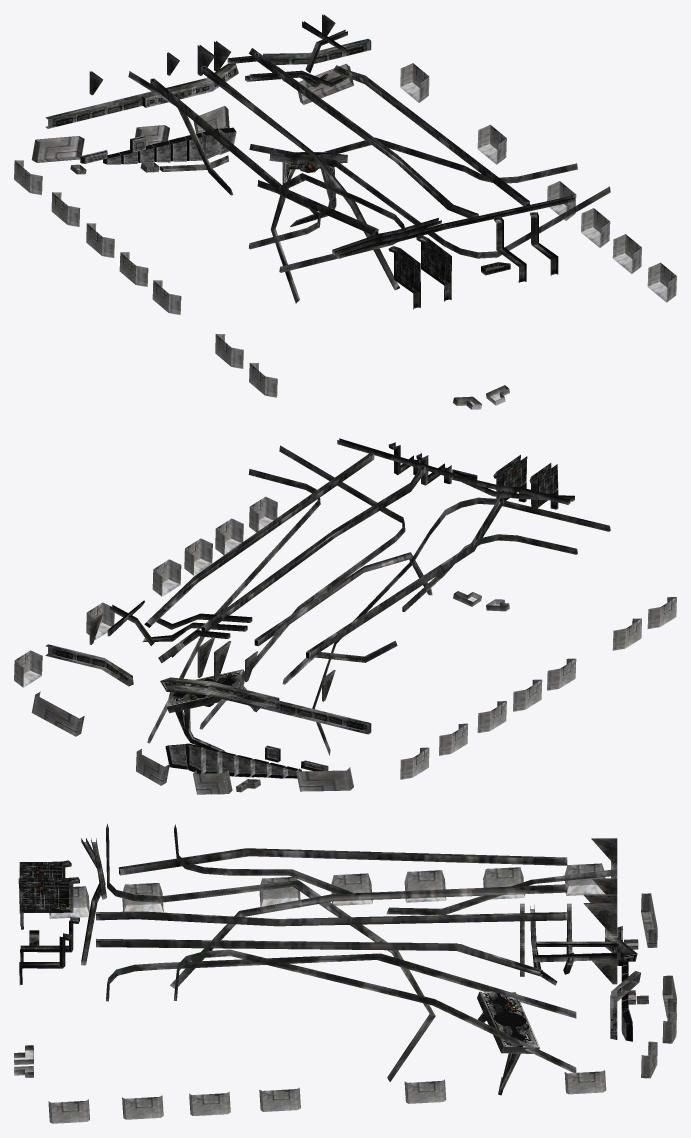
File: star_destroyer_hangar_detail_destroyed_l1.fbx
3 views of the same model, one above another, from view 1: azimuth 30°, elevation 25°; view 2: azimuth 150°, elevation 25°; view 3: azimuth 270°, elevation 25° (orthographic). The views are drawn at different scales.
Visible parts, largest first — view 1: mesh_node; view 2: mesh_node; view 3: mesh_node.
Boxes of the visible parts, x1,y1,x2,y2 form: mesh_node: [14, 14, 676, 409]; mesh_node: [14, 438, 676, 794]; mesh_node: [14, 823, 676, 1123].
Size of the model in its own units: 257 by 109 by 336.
1 material, 1 textured.
